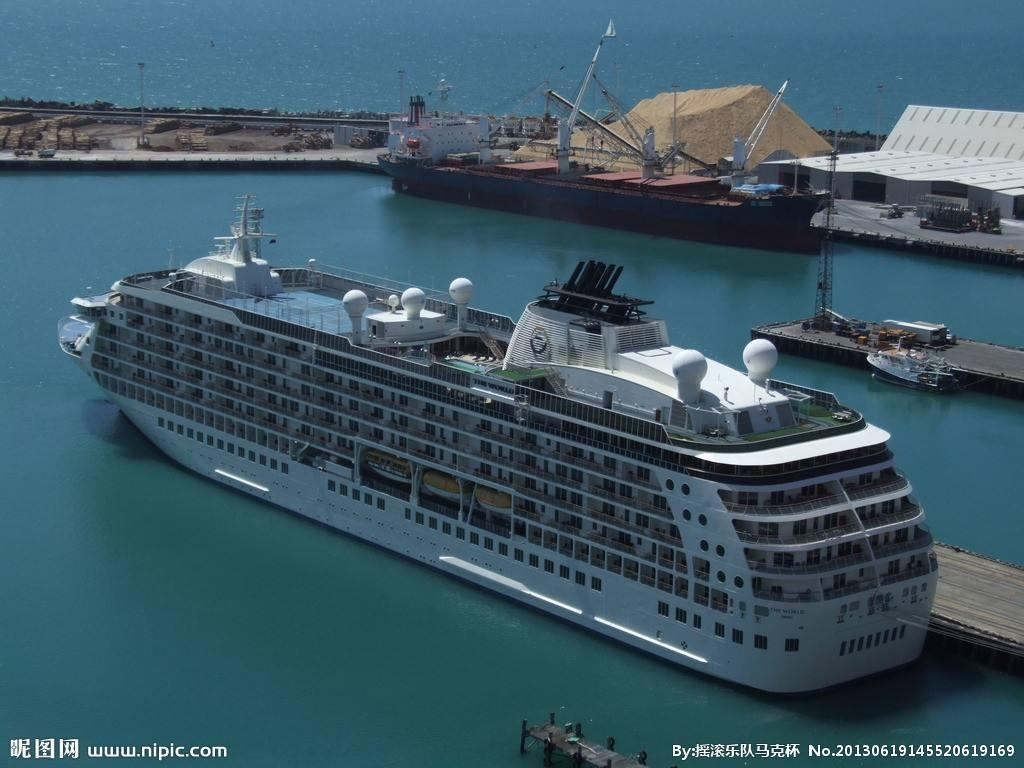youlun: (54, 196, 942, 694)
